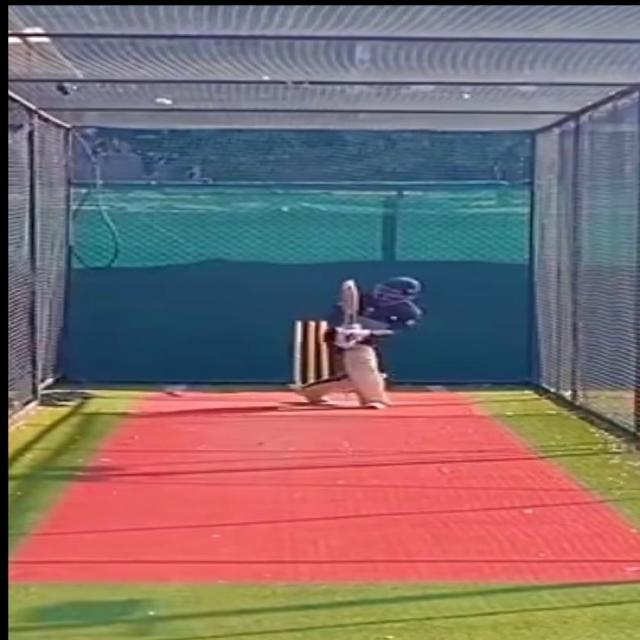stump: (286, 317, 333, 393)
